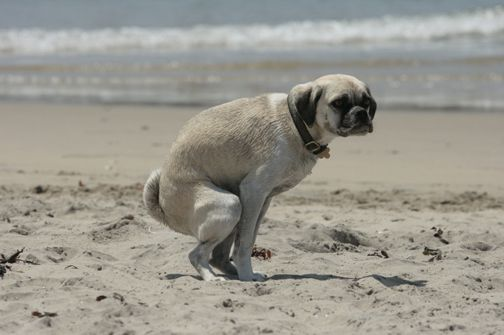dog_pooping: (140, 69, 381, 286)
